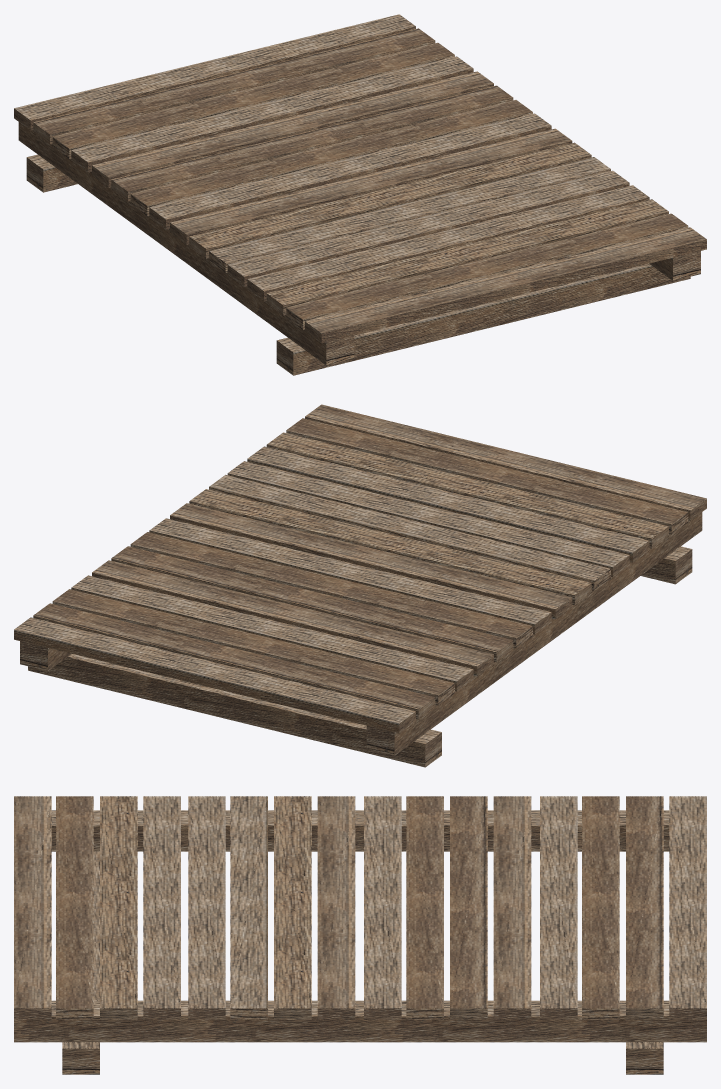
File: puente.fbx
The picture shows the model from 3 angles, top to bottom: view 1: azimuth 30°, elevation 25°; view 2: azimuth 150°, elevation 25°; view 3: azimuth 270°, elevation 25°; orthographic projection. The views are drawn at different scales.
Visible parts, largest first — view 1: Cube, Columna 3.003, Columna 1.002; view 2: Cube, Columna 1.002, Columna 3.003; view 3: Cube, Columna 3.003, Columna 1.002.
Part boxes in pixels (bbox=[...]): Cube: bbox=[14, 14, 706, 365]; Columna 3.003: bbox=[276, 263, 690, 375]; Columna 1.002: bbox=[26, 154, 77, 192]; Cube: bbox=[14, 404, 706, 755]; Columna 1.002: bbox=[28, 654, 441, 767]; Columna 3.003: bbox=[641, 546, 692, 584]; Cube: bbox=[14, 796, 706, 1042]; Columna 3.003: bbox=[62, 851, 99, 1074]; Columna 1.002: bbox=[626, 1042, 663, 1074].
Size of the model in its own units: 412 by 55.96 by 553.
Materials: 1 (1 with a texture image).
